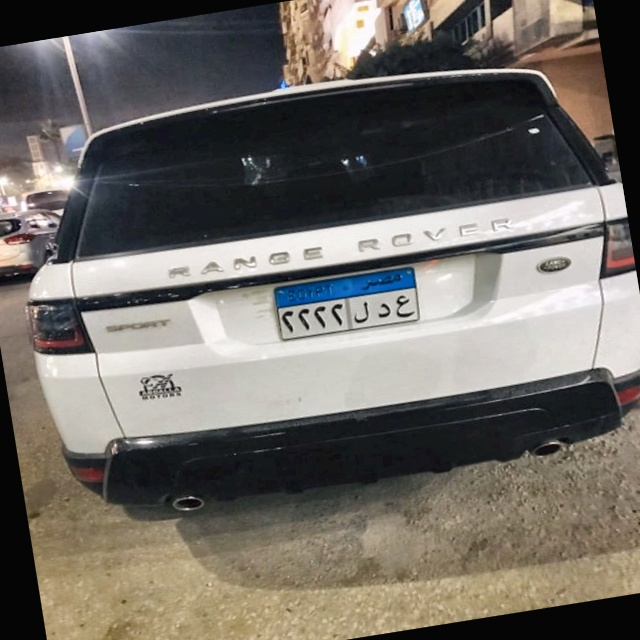License Plate: (270, 262, 425, 345)
